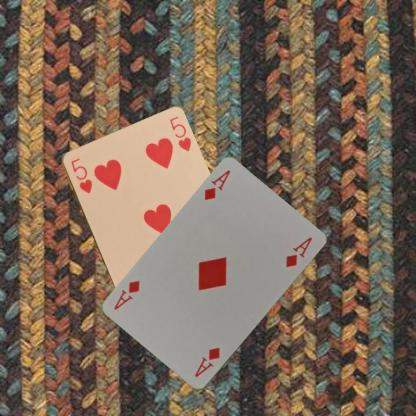5h: (68, 155, 94, 195)
Ad: (201, 168, 232, 202), (192, 344, 221, 379)
